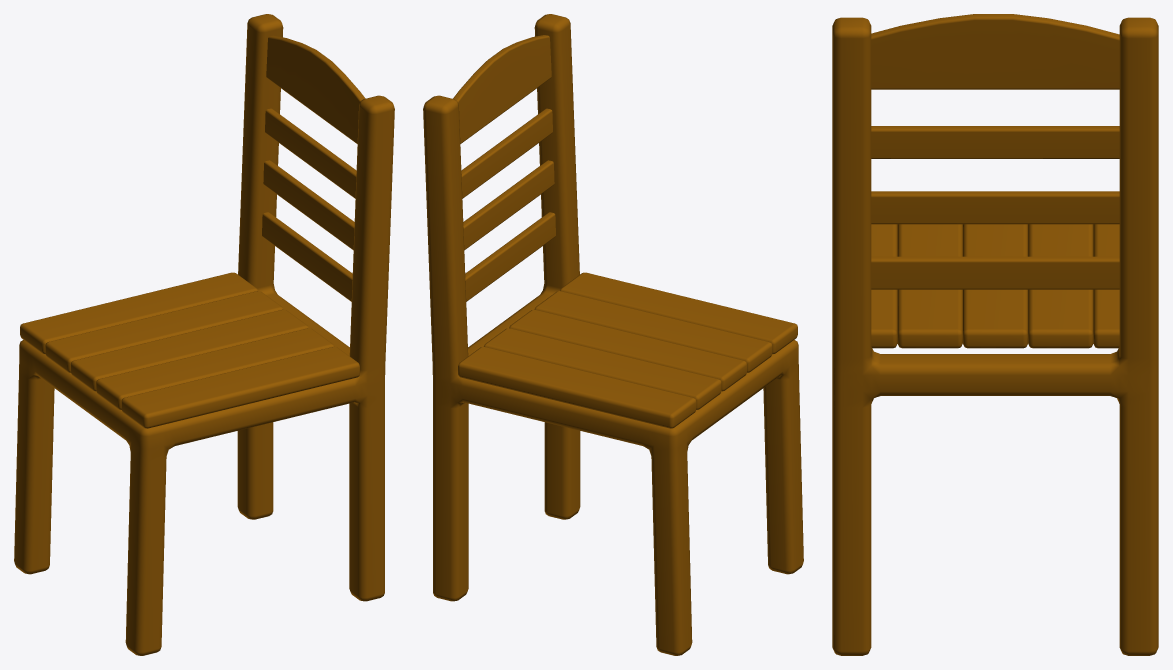
Rendered from chair_02_brown.fbx.
3 views of the same model, side by side, from view 1: azimuth 30°, elevation 25°; view 2: azimuth 150°, elevation 25°; view 3: azimuth 270°, elevation 25° (orthographic). The views are drawn at different scales.
Visible parts, largest first — view 1: chair_02_brown; view 2: chair_02_brown; view 3: chair_02_brown.
Part boxes in pixels (box(x1,y1,x2,y2)): chair_02_brown: box(14, 14, 394, 655); chair_02_brown: box(423, 14, 803, 655); chair_02_brown: box(832, 14, 1158, 655).
Bounding box in the file's own units: 59.37 × 109 × 50.24.
Materials: 1 (1 with a texture image).
